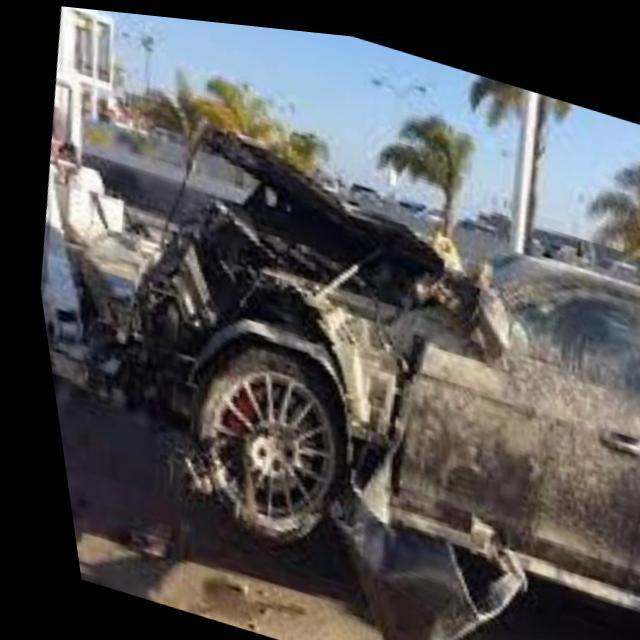no part: (97, 127, 640, 640)
